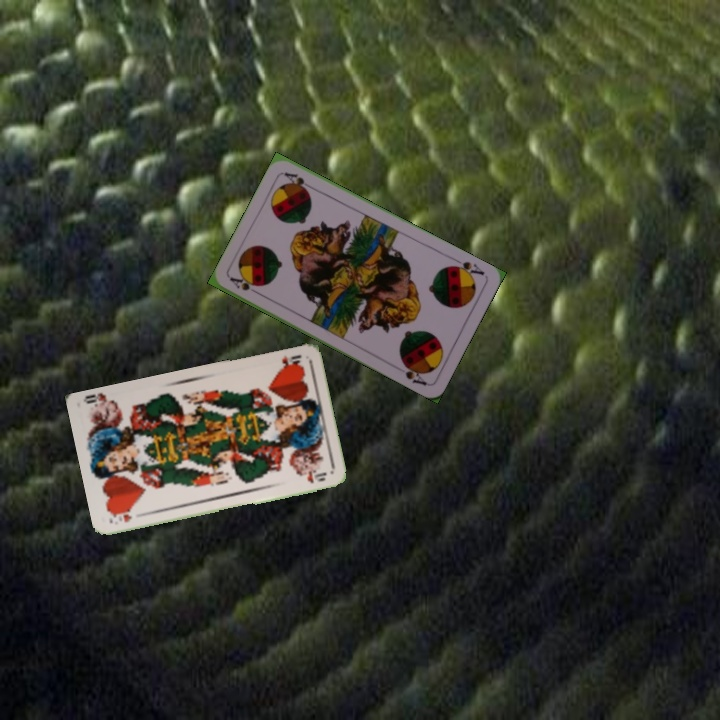HO: (275, 351, 305, 372), (108, 507, 134, 525)
SA: (446, 254, 487, 281), (226, 273, 264, 298)
